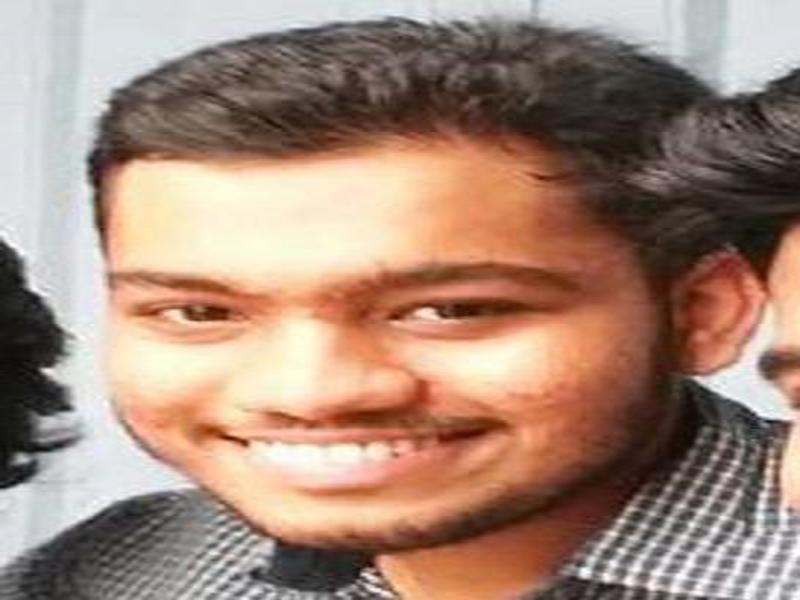without_mask: (104, 157, 644, 557)
